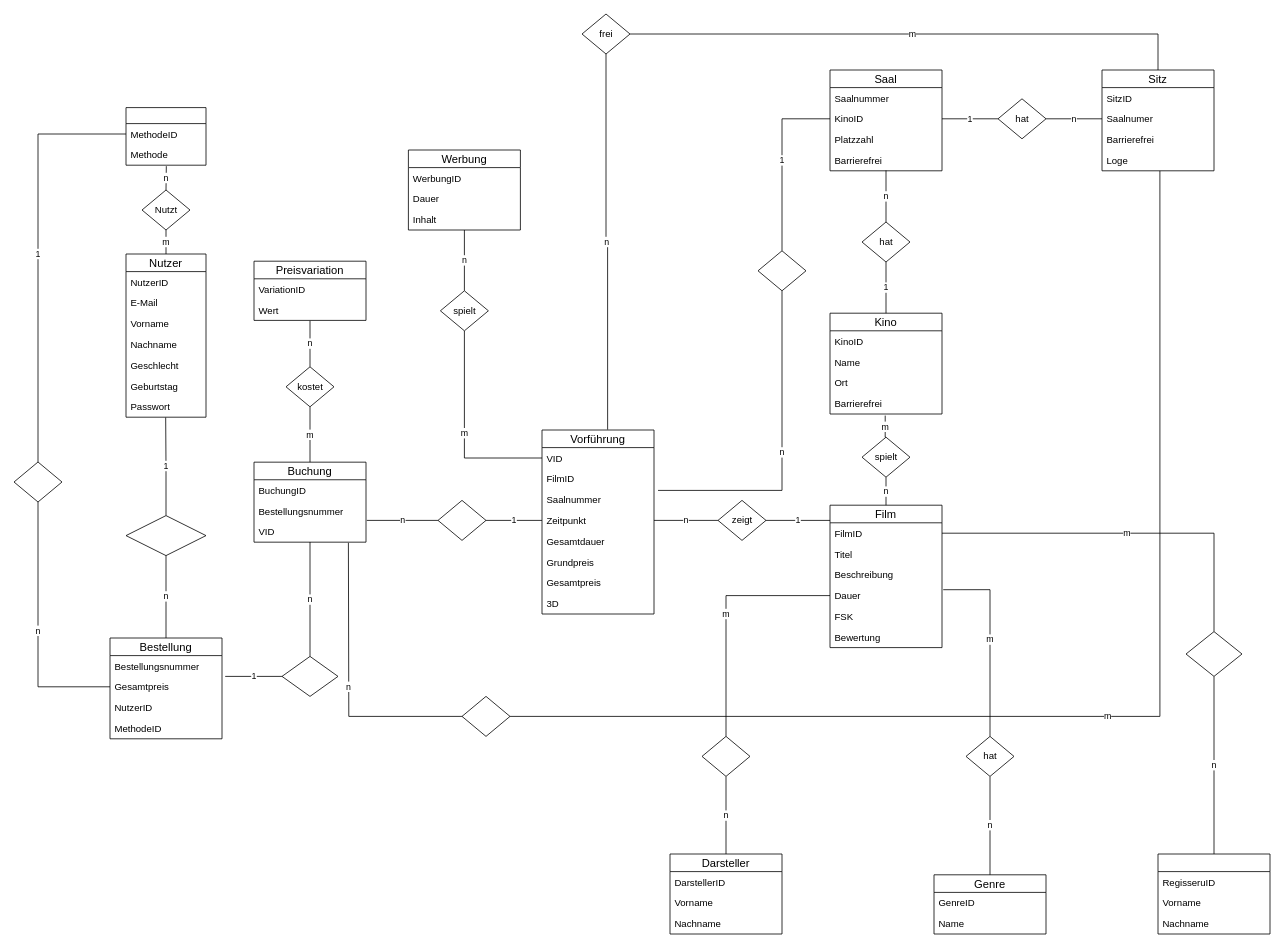
This 1284x950 diagram has some shape labels left out. The box of each missing label's shape, as (x1, y1, x2, y2) in pixels:
Beinhaltet: (281, 656, 338, 696)
bucht: (461, 696, 510, 736)
führt Regie: (1185, 631, 1242, 676)
für: (437, 500, 486, 540)
in: (757, 250, 806, 291)
Nimmt vor: (125, 515, 206, 556)
Regisseur: (1157, 853, 1270, 934)
spielt in: (701, 736, 750, 776)
zahlt mit: (13, 461, 62, 502)
Zahlungsmethode: (125, 107, 206, 165)
